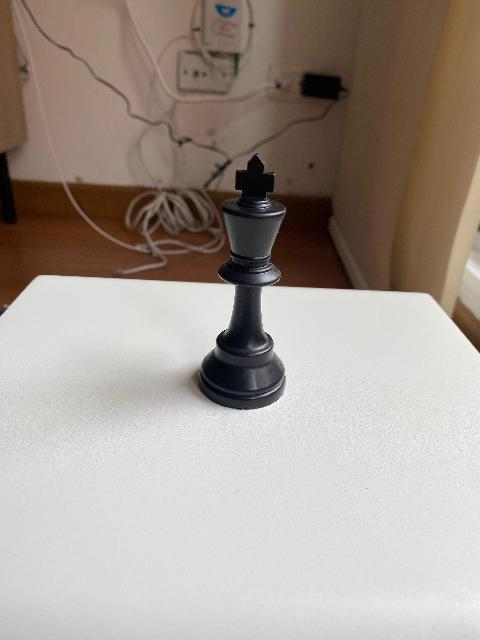black-king: (198, 153, 288, 410)
